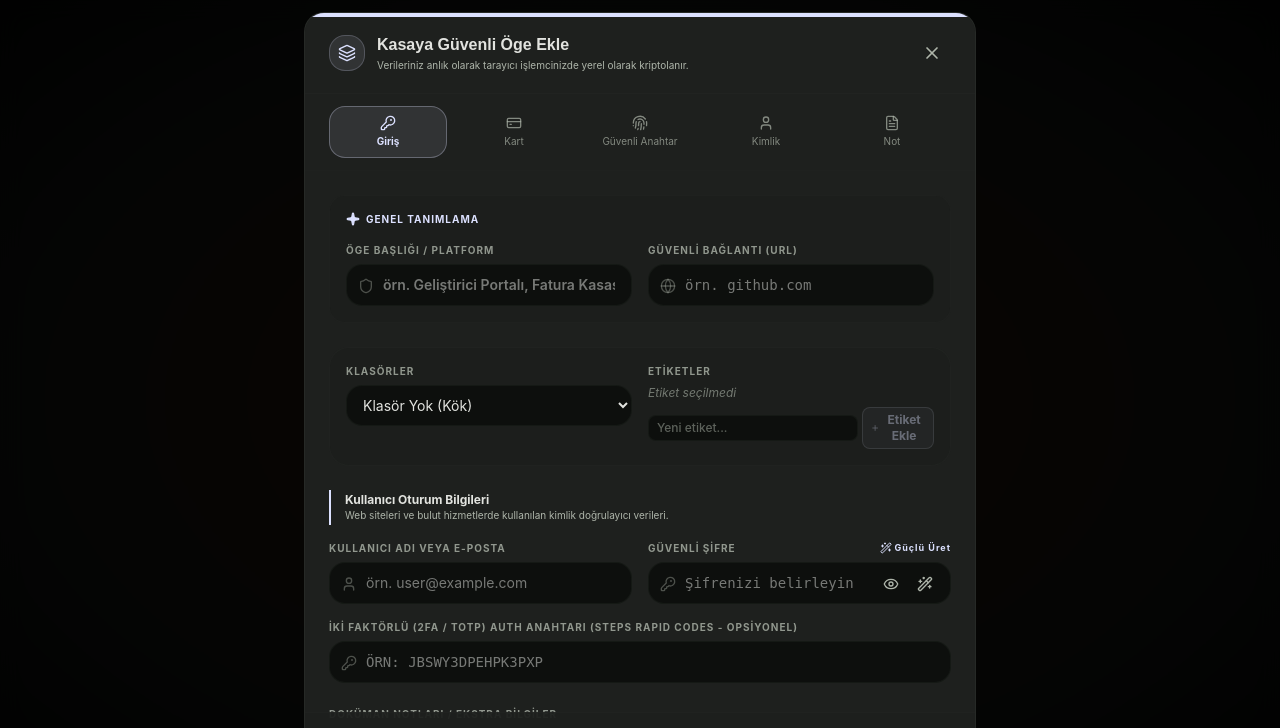
Scenario: VaultFormModal › toggles login password visibility and fills a generated password
Click the button named "Göster": (891, 584) left=877, top=570, right=905, bottom=598
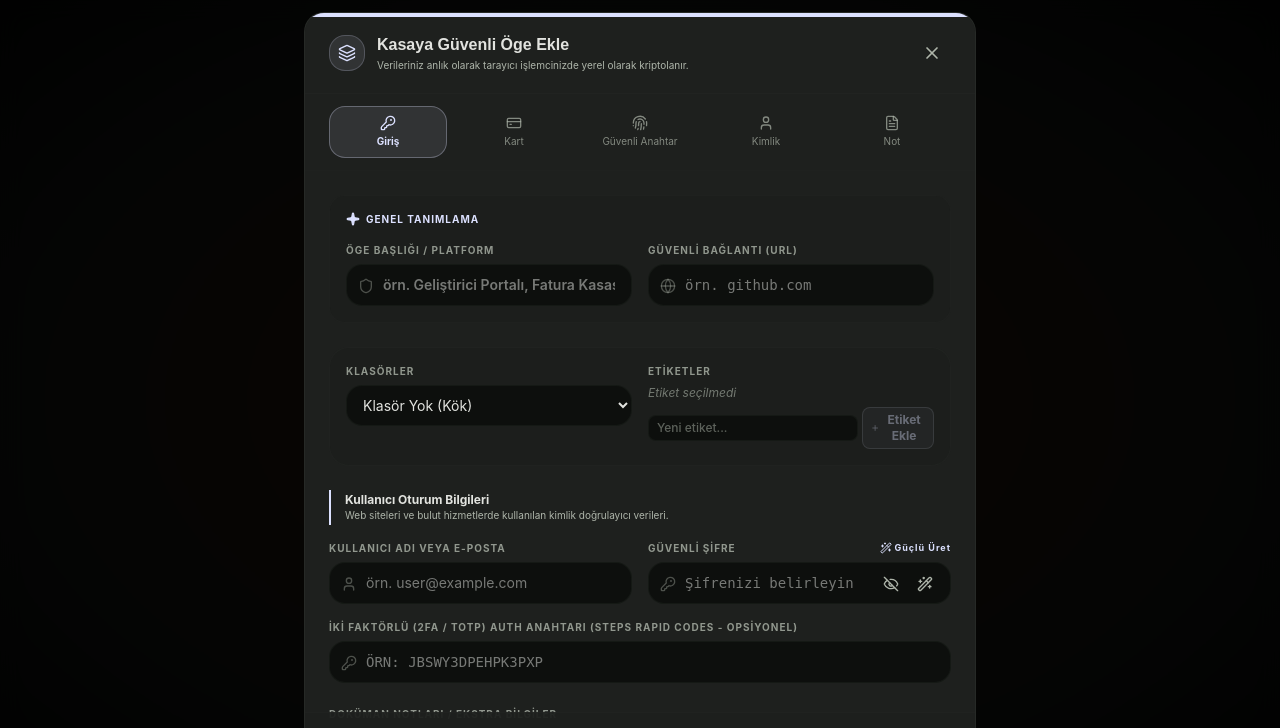
Click the button named "Otomatik Şifre Oluştur": (925, 584) left=911, top=570, right=939, bottom=598
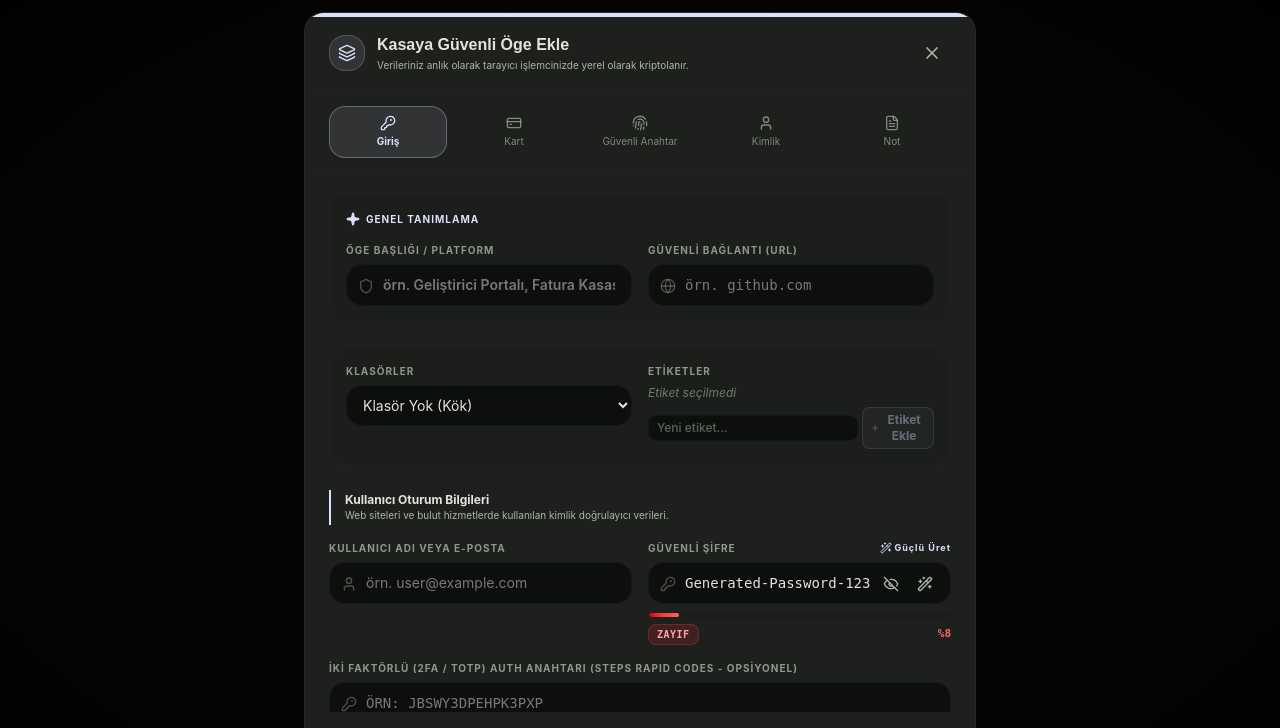
Check: the field with placeholder "Şifrenizi belirleyin" holds "Generated-Password-123!", box left=648, top=562, right=951, bottom=604
